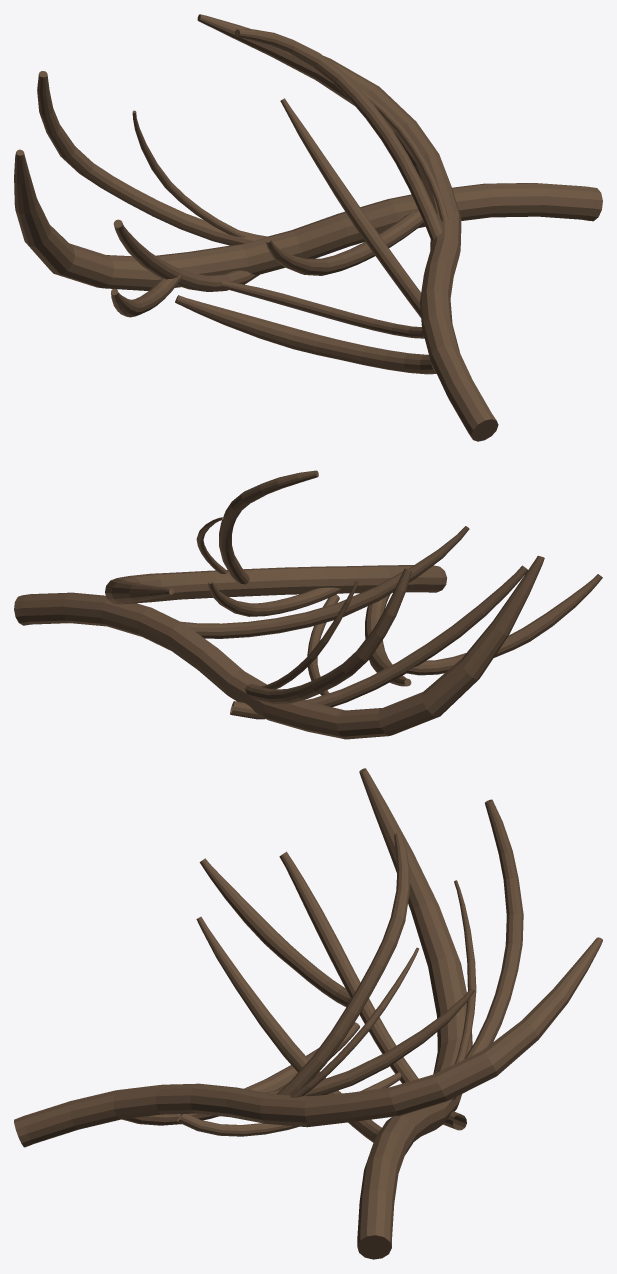
The model's file is wood3.glb.
The picture shows the model from 3 angles, top to bottom: view 1: azimuth 30°, elevation 25°; view 2: azimuth 150°, elevation 25°; view 3: azimuth 270°, elevation 25°; orthographic projection. The views are drawn at different scales.
Visible parts, largest first — view 1: twig main, twig main.001, twig5.001, twig1, twig1.001, twig2.001, twig2, twig3.001, twig3, twig4, twig5, twig4.001; view 2: twig main, twig main.001, twig2, twig3, twig1, twig5, twig1.001, twig2.001, twig5.001, twig4, twig3.001, twig4.001; view 3: twig main.001, twig main, twig1.001, twig1, twig3, twig5, twig2, twig2.001, twig3.001, twig5.001, twig4.001, twig4.
Boxes of the visible parts, x1,y1,x2,y2 form: twig main: (14,149,602,290); twig main.001: (197,14,498,441); twig5.001: (175,295,436,374); twig1: (37,71,267,245); twig1.001: (234,29,442,240); twig2.001: (280,98,420,317); twig2: (265,211,423,275); twig3.001: (221,281,424,338); twig3: (113,219,259,291); twig4: (132,110,248,237); twig5: (111,274,181,317); twig4.001: (359,87,448,221); twig main: (14,556,544,739); twig main.001: (105,565,446,604); twig2: (181,526,469,638); twig3: (230,565,527,719); twig1: (245,568,411,704); twig5: (407,574,602,675); twig1.001: (219,470,318,584); twig2.001: (208,580,341,616); twig5.001: (365,594,411,686); twig4: (260,580,358,689); twig3.001: (307,594,339,695); twig4.001: (196,517,228,573); twig main.001: (14,937,602,1147); twig main: (357,768,472,1259); twig1.001: (276,832,409,1095); twig1: (451,799,523,1100); twig3: (279,851,466,1130); twig5: (199,858,350,1006); twig2: (196,916,381,1142); twig2.001: (265,988,474,1095); twig3.001: (177,1072,400,1136); twig5.001: (122,1022,359,1125); twig4.001: (290,947,418,1097); twig4: (454,880,476,1063).
Size of the model in its own units: 1.3 by 0.61 by 1.14.
